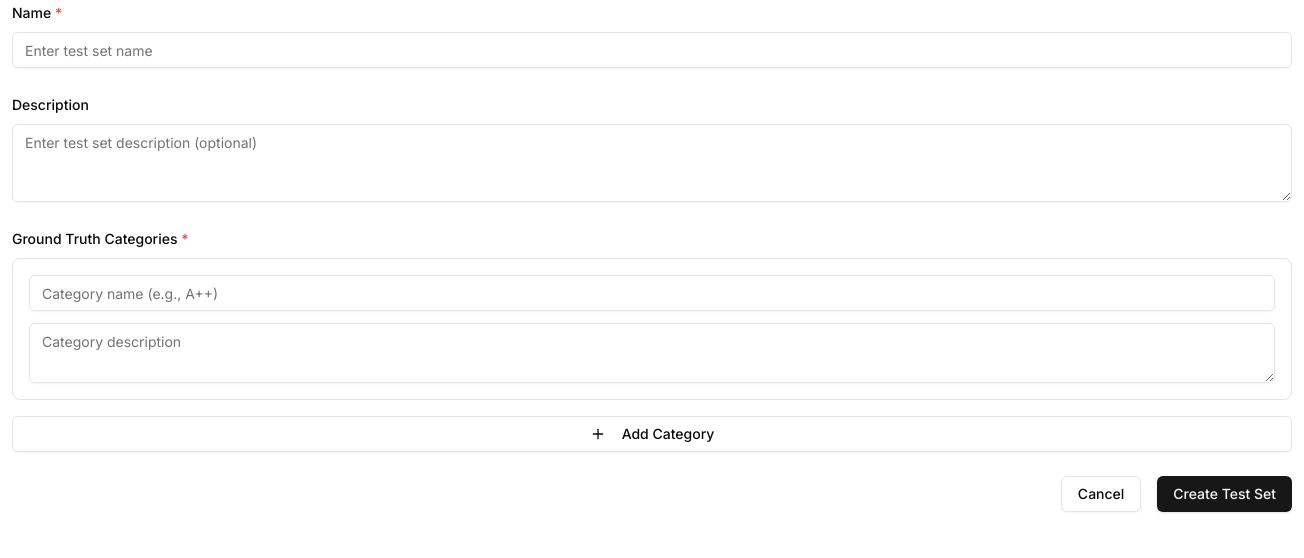
Scenario: TestSetForm › validates at least one category is required
Type "Test Set" into the field labelled "Name *" at [652, 50], box [12, 32, 1292, 68]
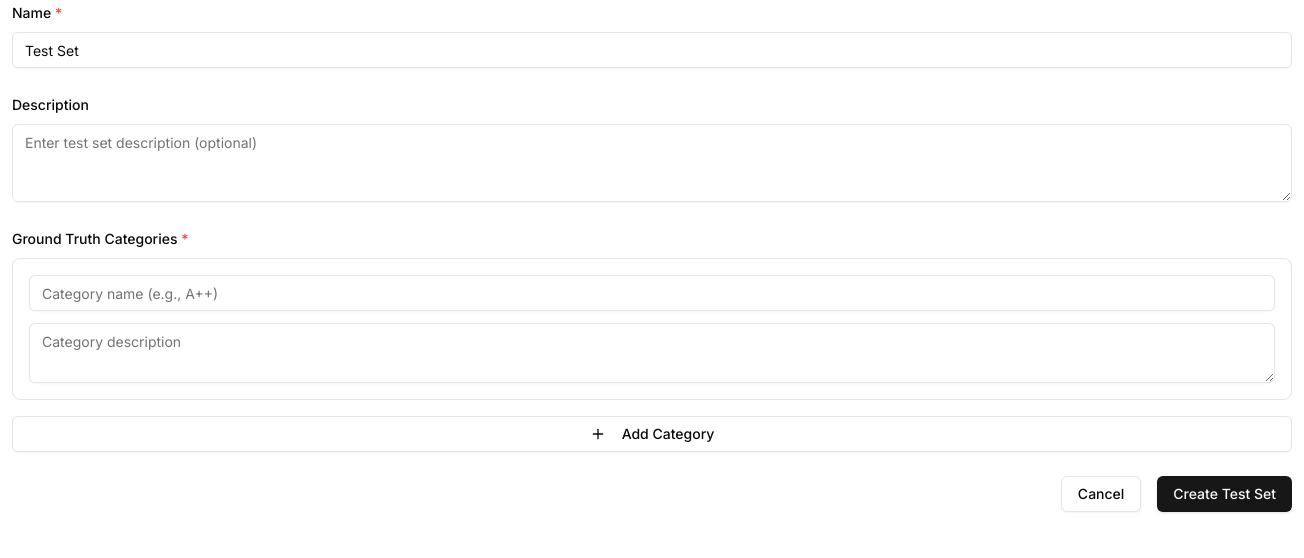
Click the button "Create Test Set" at [1225, 494], box [1157, 476, 1292, 512]
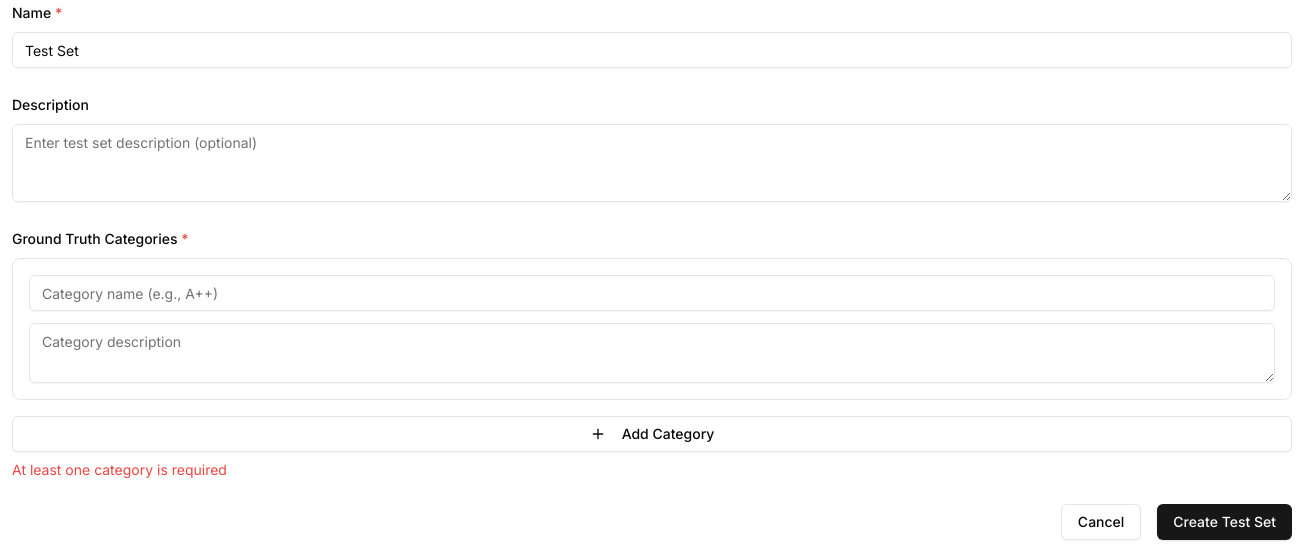
Check: the text "At least one category is required" is shown, box [12, 461, 227, 478]
